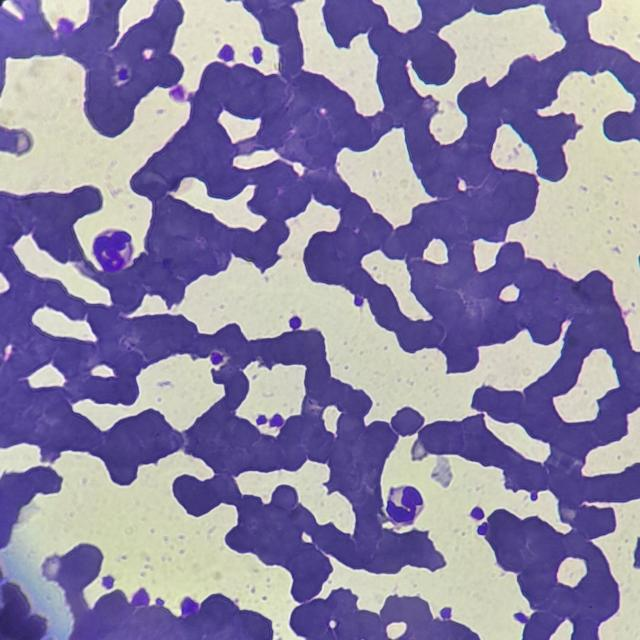Neutrofilo: (93, 229, 133, 273), (386, 485, 425, 527)
